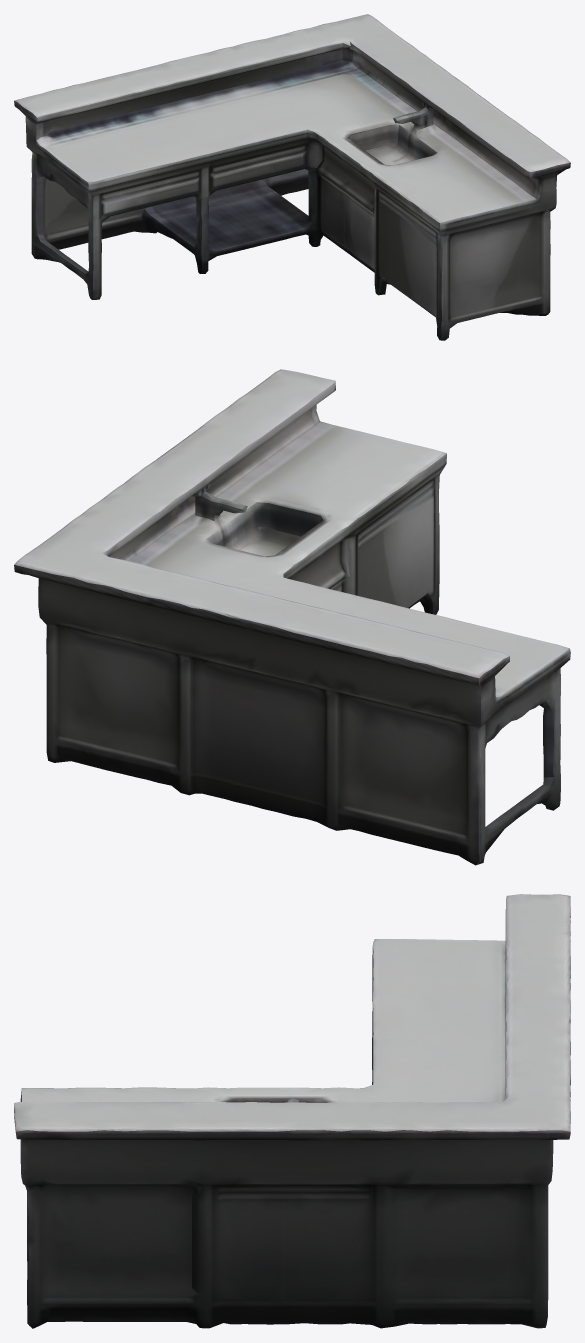
The model's file is corner_counter.glb.
The picture shows the model from 3 angles, top to bottom: view 1: azimuth 30°, elevation 25°; view 2: azimuth 150°, elevation 25°; view 3: azimuth 270°, elevation 25°; orthographic projection. The views are drawn at different scales.
Visible parts, largest first — view 1: KitchenCounter; view 2: KitchenCounter; view 3: KitchenCounter.
Part boxes in pixels (x1=…): KitchenCounter: x1=14, y1=14, x2=570, y2=340; KitchenCounter: x1=14, y1=369, x2=570, y2=865; KitchenCounter: x1=14, y1=894, x2=570, y2=1328.
Size of the model in its own units: 2.4 by 0.9942 by 2.39.
Materials: 1 (1 with a texture image).
